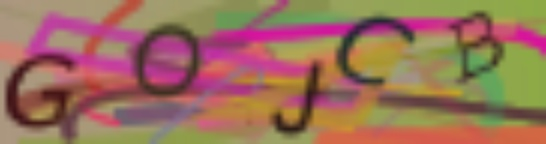B: (446, 8, 510, 84)
C: (333, 13, 418, 87)
G: (3, 49, 76, 129)
J: (269, 55, 323, 139)
O: (131, 22, 202, 98)
